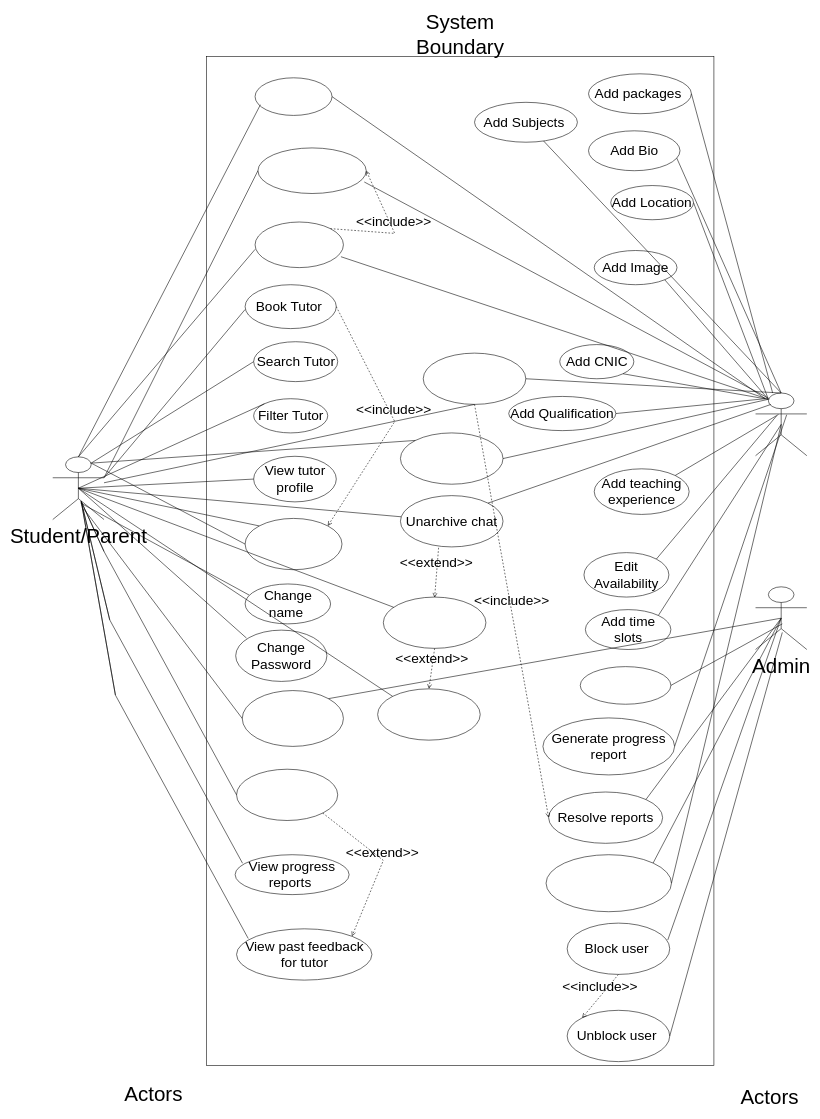
Image size: 820x1119. Some labels were removed from this diagram. The shapes that lost their labels are listed below. From the top down, each one's centre as x and y in pixels, then its label:
At pixel 293 96: "Logout".
At pixel 311 170: "Login account".
At pixel 299 244: "Register account".
At pixel 474 378: "Report user".
At pixel 781 424: "Tutor".
At pixel 451 458: "Archive chat".
At pixel 293 544: "Cancel Booking".
At pixel 434 622: "Pin chat".
At pixel 625 685: "Verify Profile".
At pixel 292 718: "Send message to tutor".
At pixel 428 714: "Unpin chat".
At pixel 287 795: "Provide feedback for tutor".
At pixel 608 883: "Send message to student/parent".
